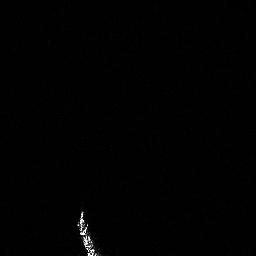ship: (73, 208, 102, 256)
